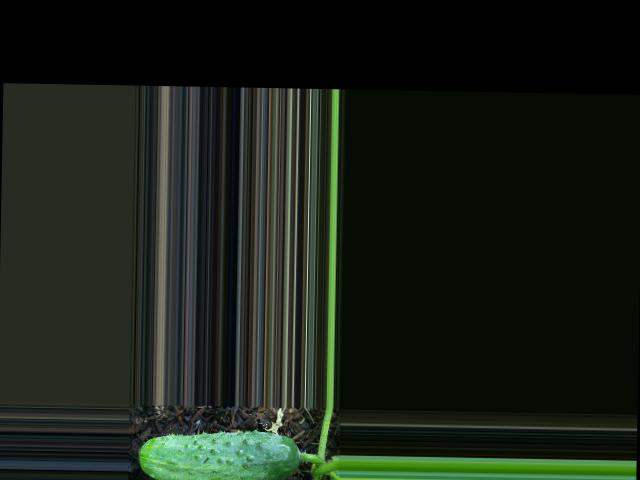cucumber: (136, 428, 300, 480)
